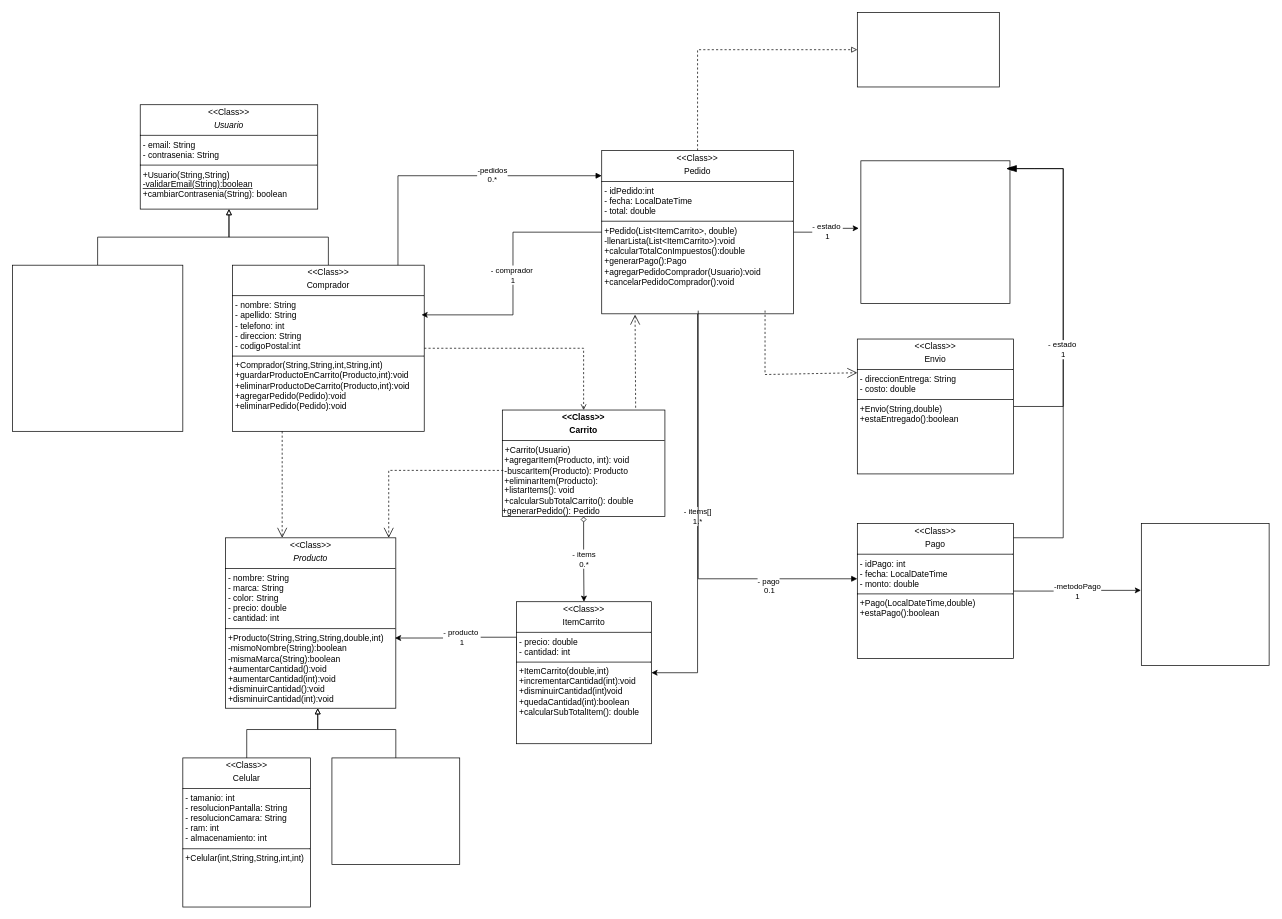
Some shapes in this 1282 by 919 pixel diagram are drawn without their labels. The box of each missing label's shape, as (x1, y1, x2, y2) in pixels:
<< Class >> Cargador - wats: int - cargaRapida: boolean +Cargador(int,boolean): (331, 757, 460, 864)
<<Class>> Admin + Admin(): (12, 264, 183, 431)
<<enum>> Estado + CREADO + PAGADO + ENVIADO + ENTREGADO + CANCELADO: (860, 160, 1010, 304)
<<enum>> MetodoPago + DEBITO + MERCADOPAGO: (1141, 523, 1269, 666)
<<Interface>> Calculable + IVA : double = 1.21 +precioConIva(double): double: (857, 12, 999, 87)
